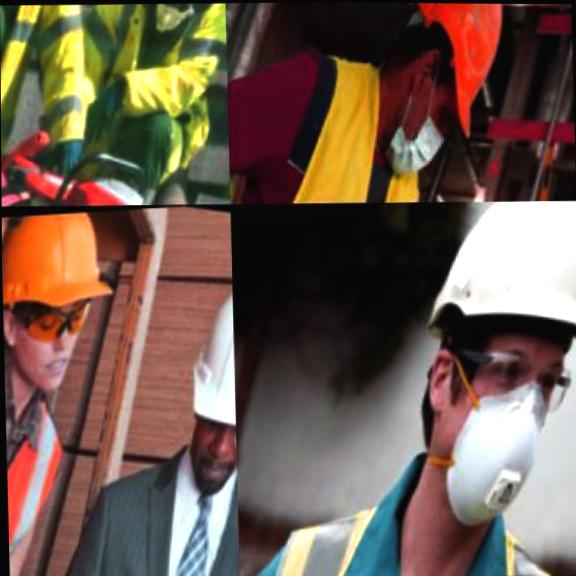safety_vest: (227, 26, 458, 204), (238, 458, 576, 576), (70, 2, 230, 181), (2, 312, 105, 576), (0, 3, 128, 206)
